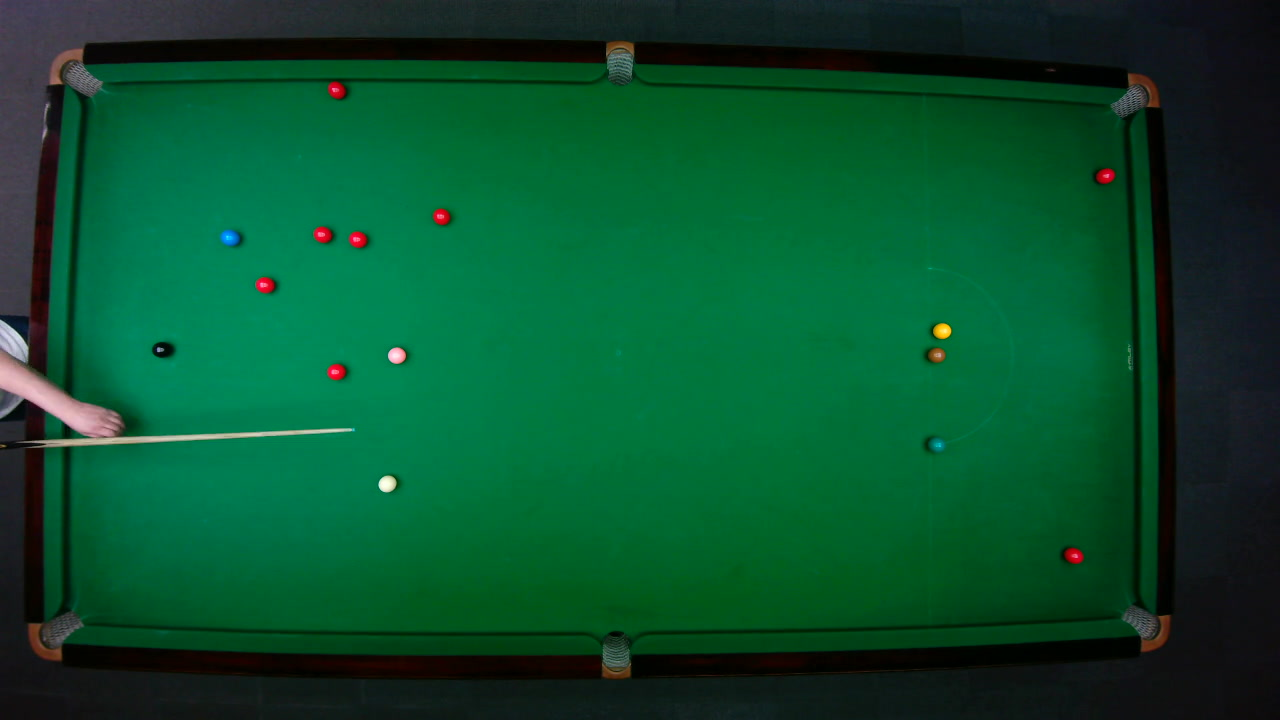bag: (26, 608, 84, 660), (47, 47, 103, 97), (1118, 602, 1170, 651), (1108, 72, 1160, 119), (601, 629, 630, 679), (605, 39, 633, 86)
black: (150, 340, 172, 358)
blue: (219, 228, 239, 246)
brown: (926, 346, 945, 362)
cue: (0, 426, 361, 450)
green: (926, 435, 945, 452)
pink: (386, 345, 407, 364)
red: (1061, 545, 1085, 564), (1093, 166, 1116, 184), (311, 225, 333, 243), (325, 362, 347, 380), (253, 275, 275, 293), (431, 206, 451, 225), (326, 80, 346, 99), (347, 229, 367, 247)
white: (376, 473, 397, 493)
yellow: (931, 321, 952, 339)
zone: (926, 265, 1013, 444)
